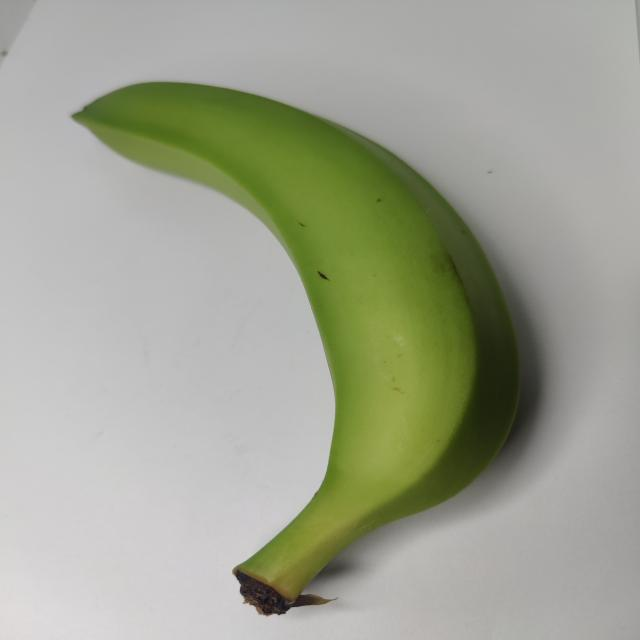raw: (40, 55, 559, 628)
